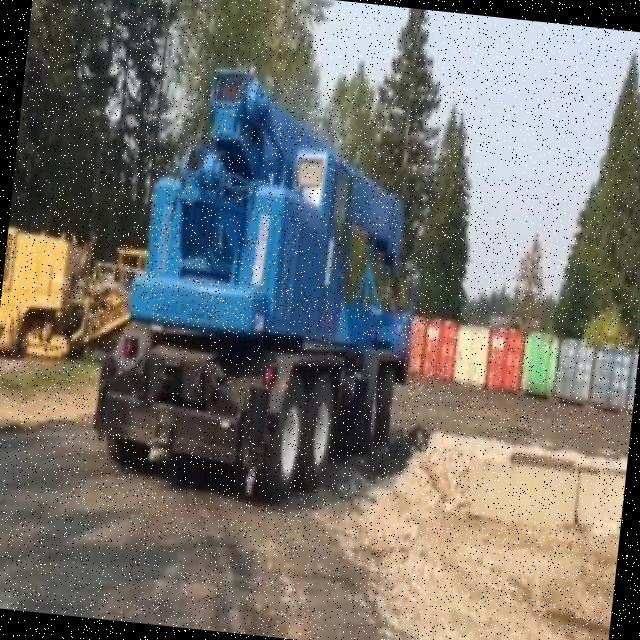Mobile Crane: (88, 56, 433, 508)
